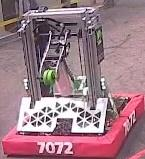red_number: (34, 140, 76, 156)
